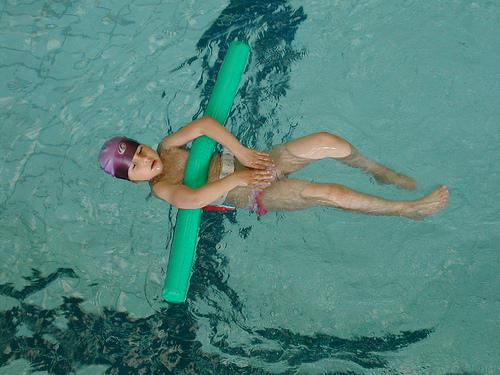swimmer: (96, 114, 451, 224)
